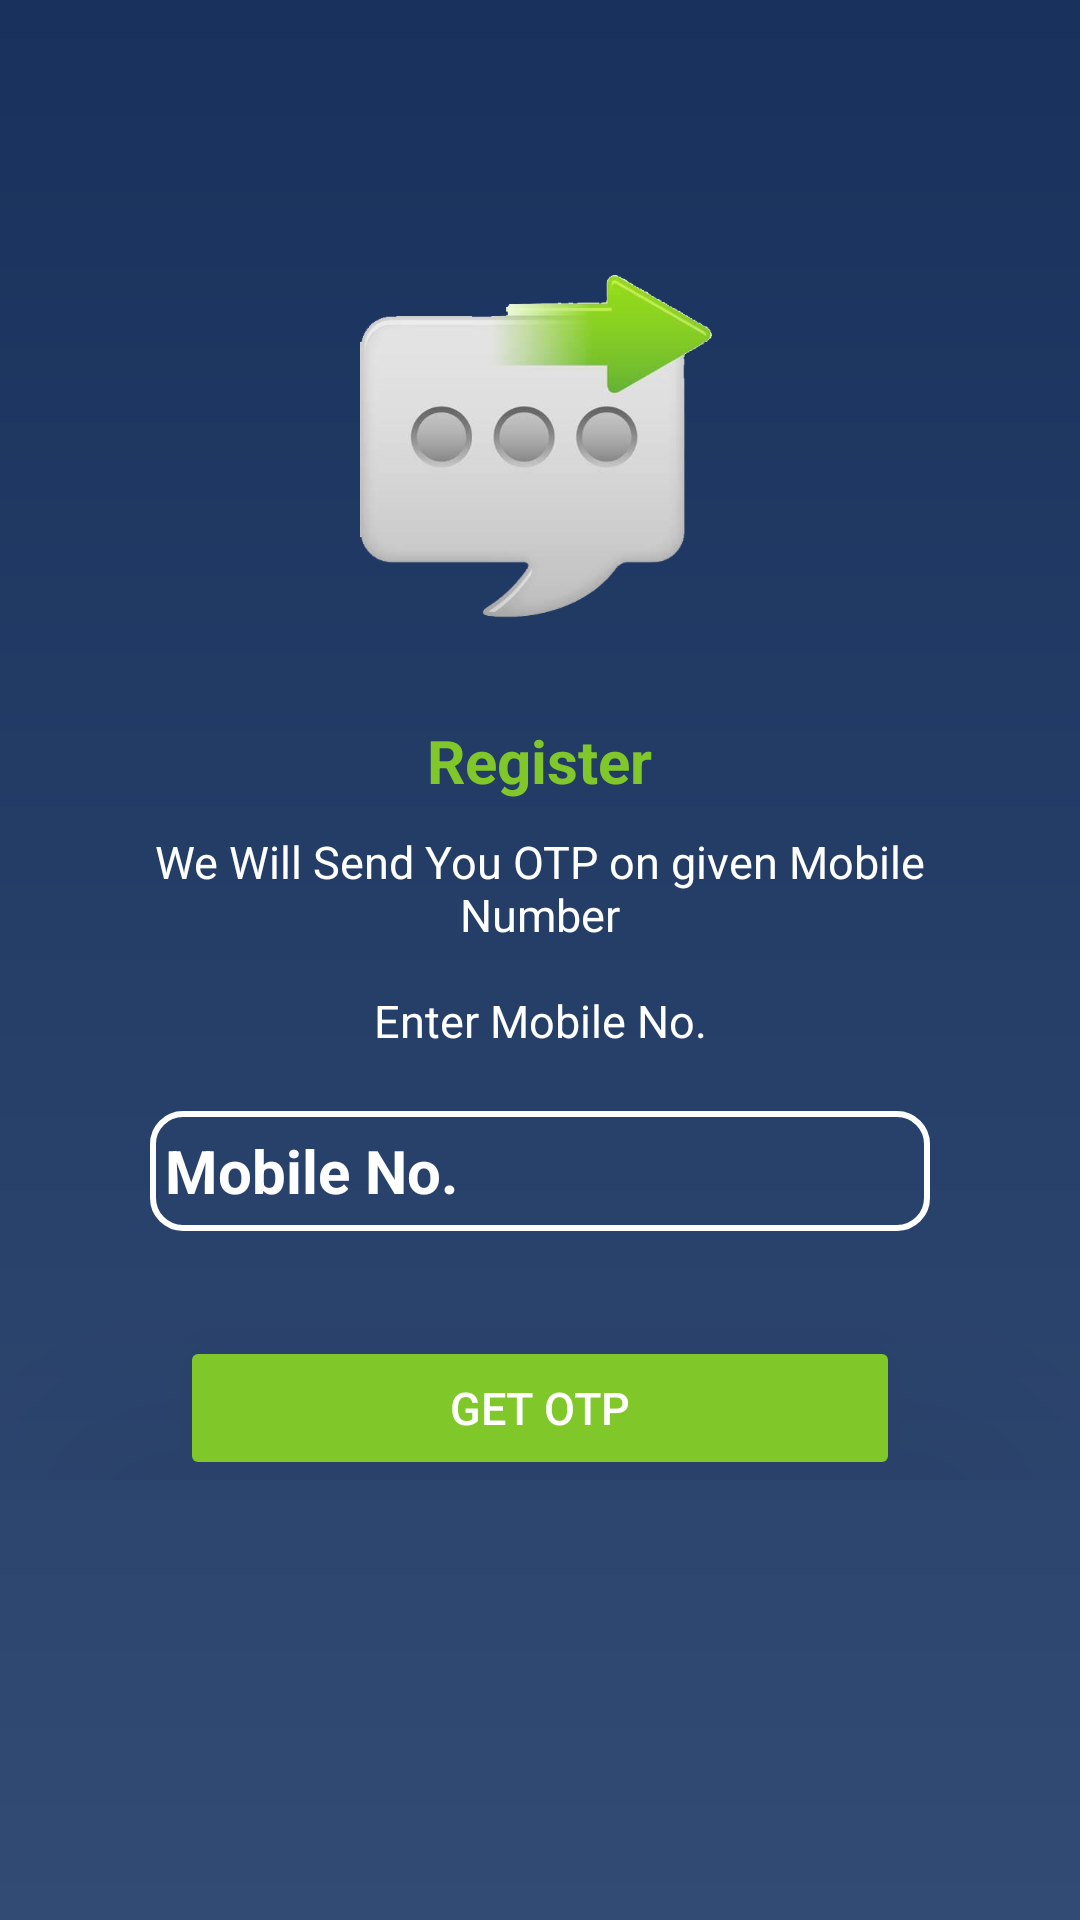

Screen size 1080*1920. Icon name, then its box in pixels as (x1, y1, x2, y2):
otpver: (360, 275, 712, 617)
